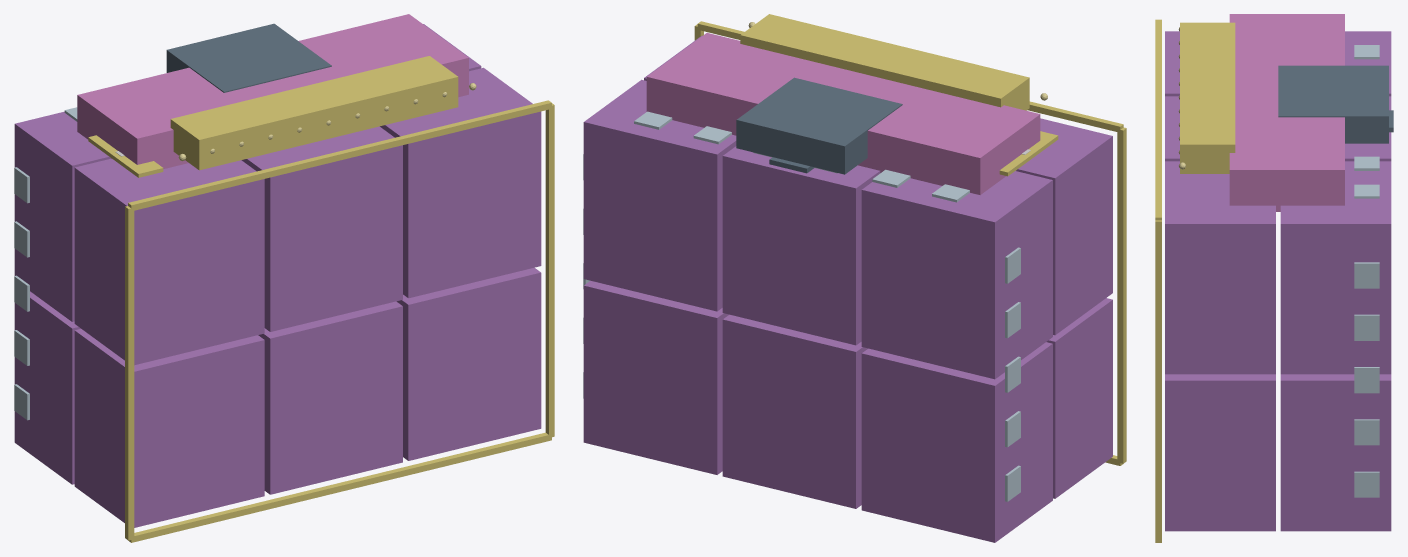
File: building-casino.glb
3 views of the same model, side by side, from view 1: azimuth 30°, elevation 25°; view 2: azimuth 150°, elevation 25°; view 3: azimuth 270°, elevation 25° (orthographic). The views are drawn at different scales.
Visible parts, largest first — view 1: world; view 2: world; view 3: world.
Part boxes in pixels (x1=…): world: x1=14, y1=14, x2=554, y2=542; world: x1=583, y1=14, x2=1126, y2=542; world: x1=1155, y1=14, x2=1393, y2=542.
Size of the model in its own units: 20.56 by 17.23 by 10.32.
